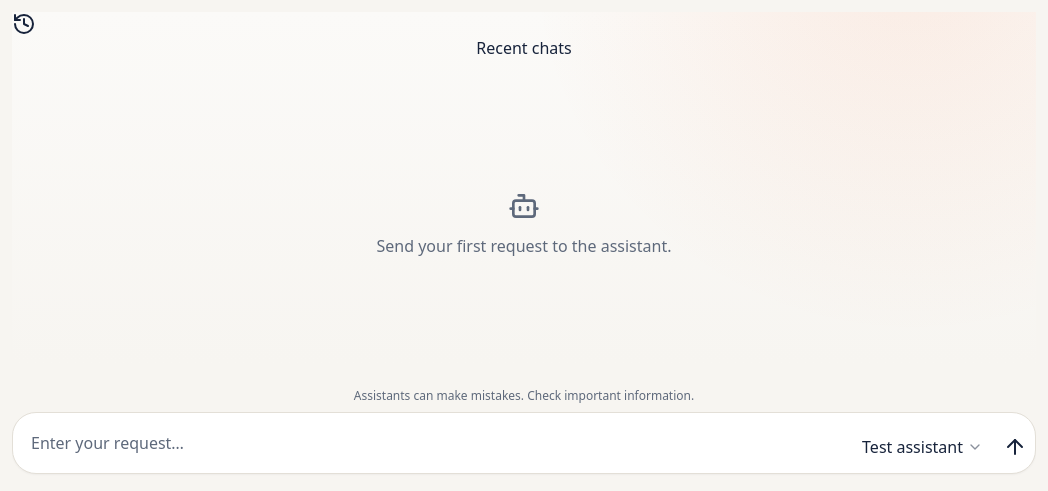
Test case: PlaygroundPage › renders streamed text and links to processing details
Expected: the text "Test assistant" is shown, [862,435,963,459]
Type "Hello" into the text box named "Message".
click(432, 443); type("Hello")  # box [21,421,842,465]
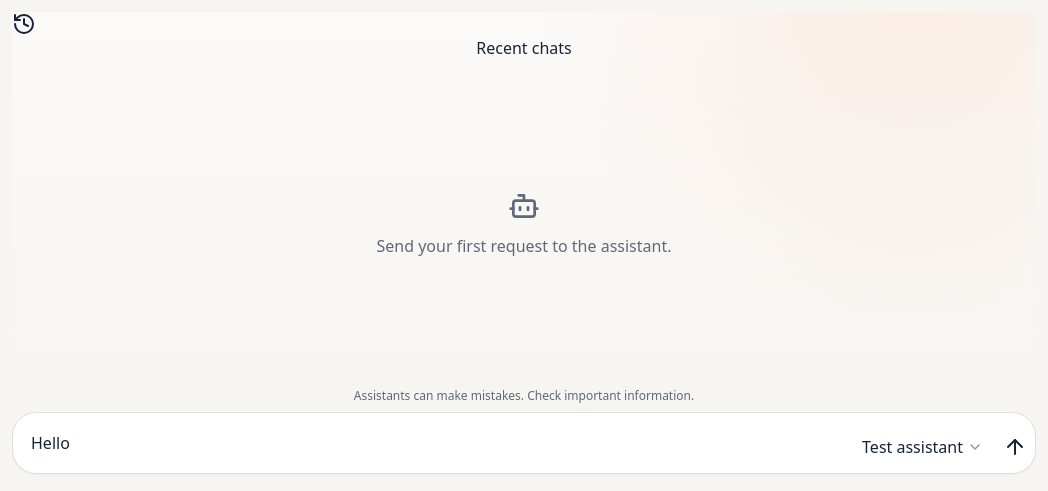
Click the button named "Send".
click(1015, 447)  # box [1003,435,1027,459]
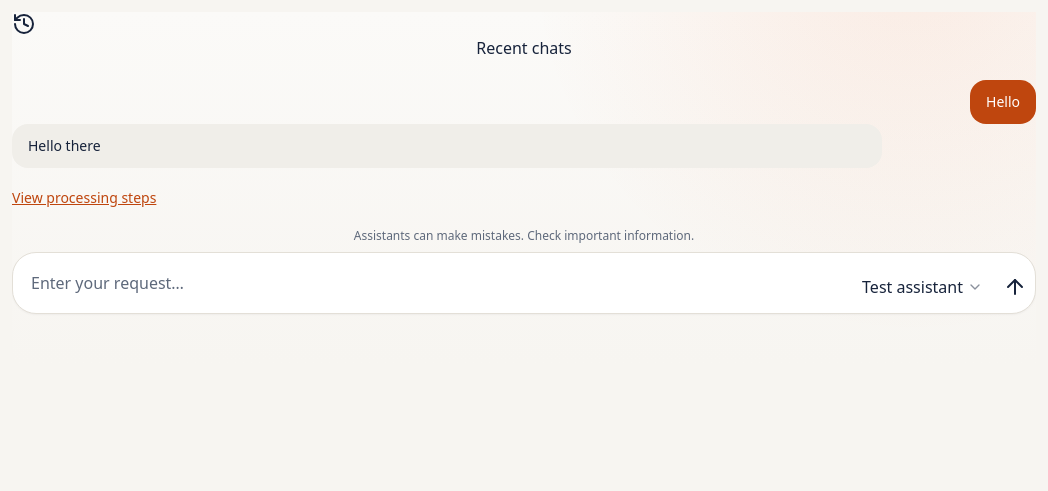
Now the text "Hello there" is shown, box [28,136,101,155]
